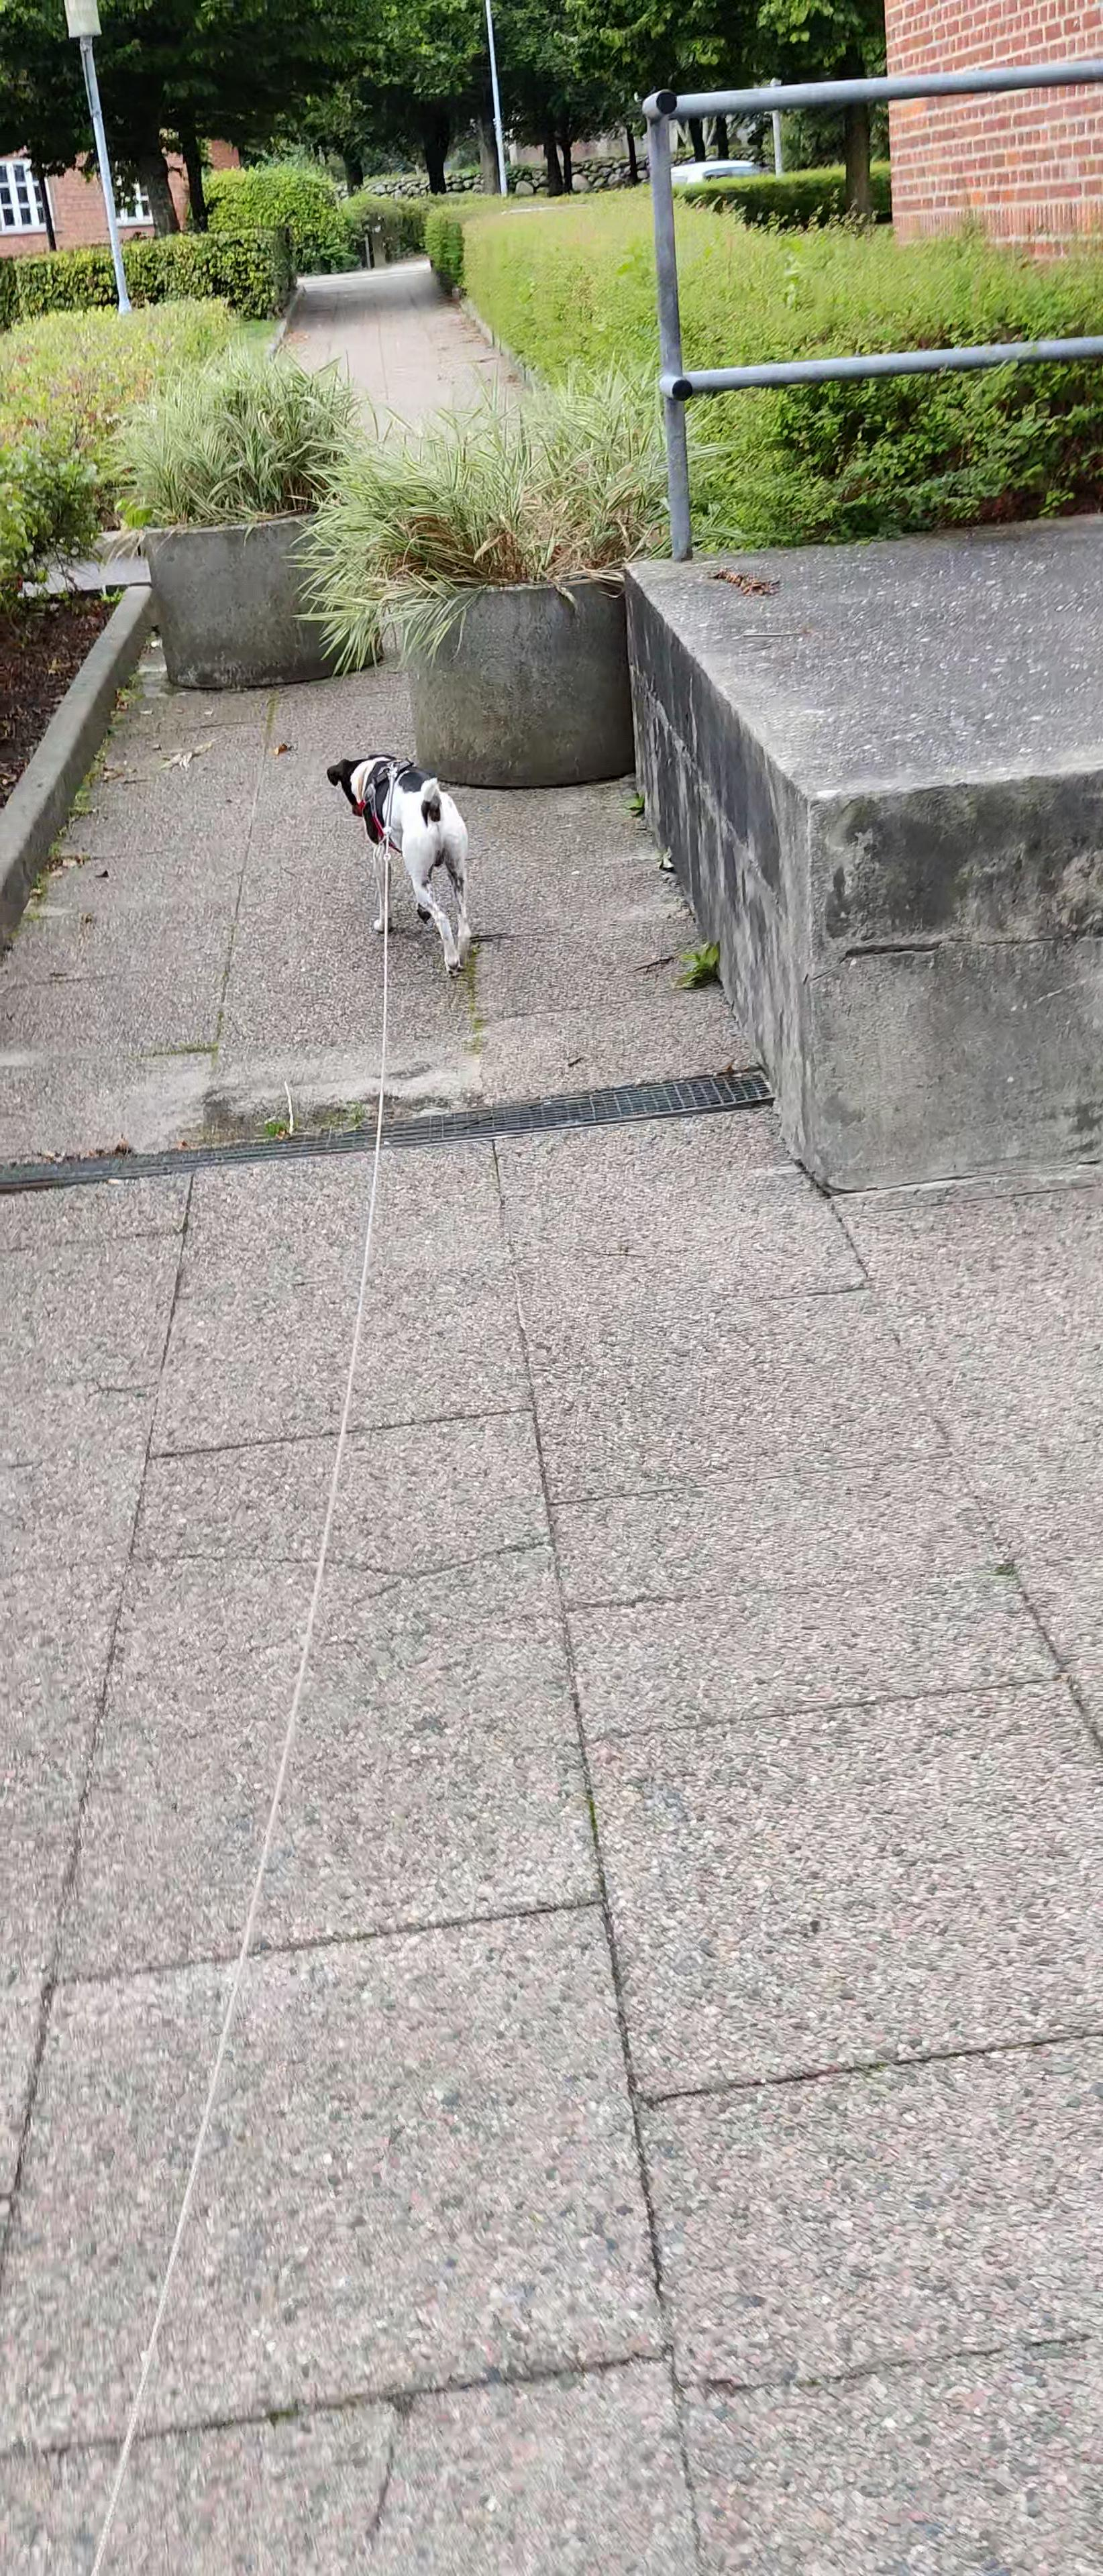Dog: (325, 751, 480, 981)
